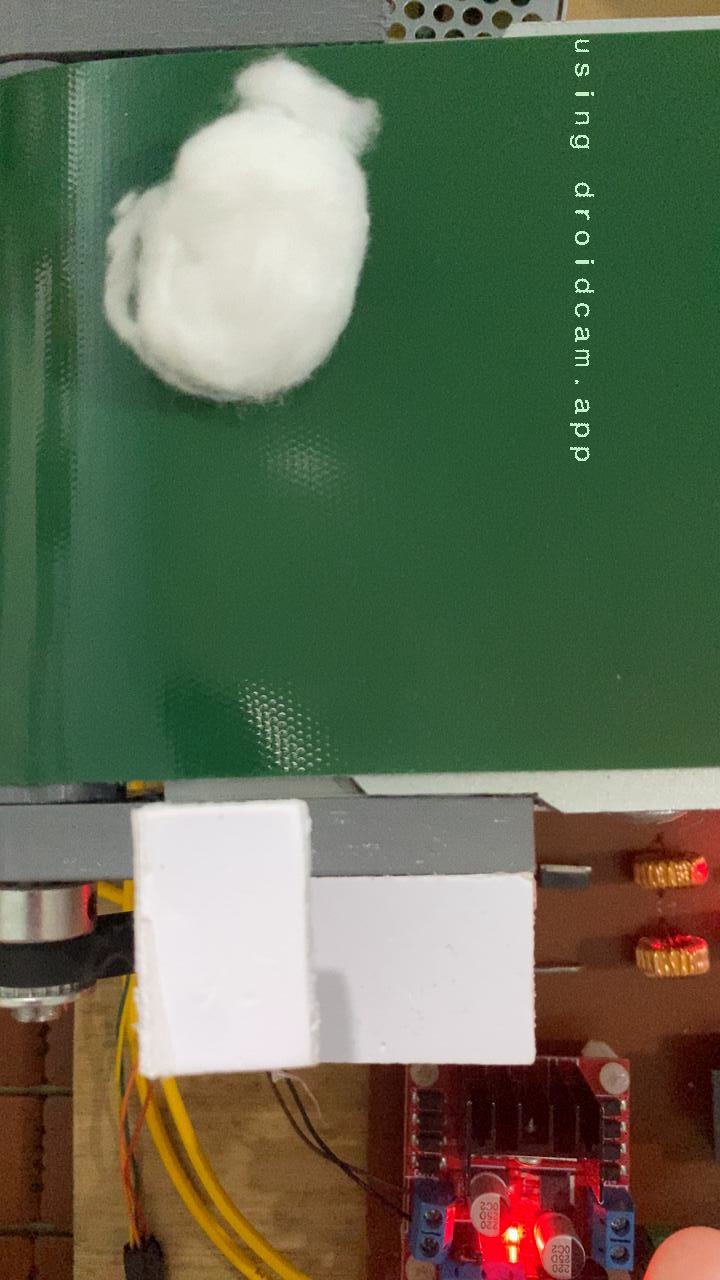cotton: (0, 39, 383, 409)
